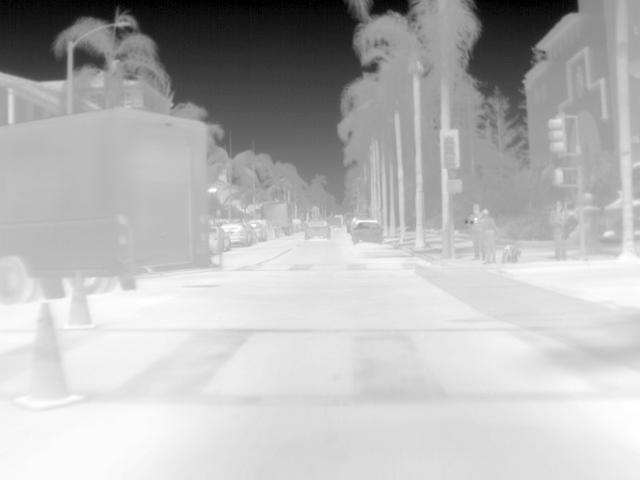car: (352, 220, 385, 246), (222, 221, 255, 247), (209, 229, 232, 253), (305, 219, 331, 239), (249, 219, 268, 241), (255, 220, 276, 238)
dog: (502, 243, 524, 263)
person: (544, 198, 568, 260), (480, 207, 501, 265), (468, 204, 485, 260)
